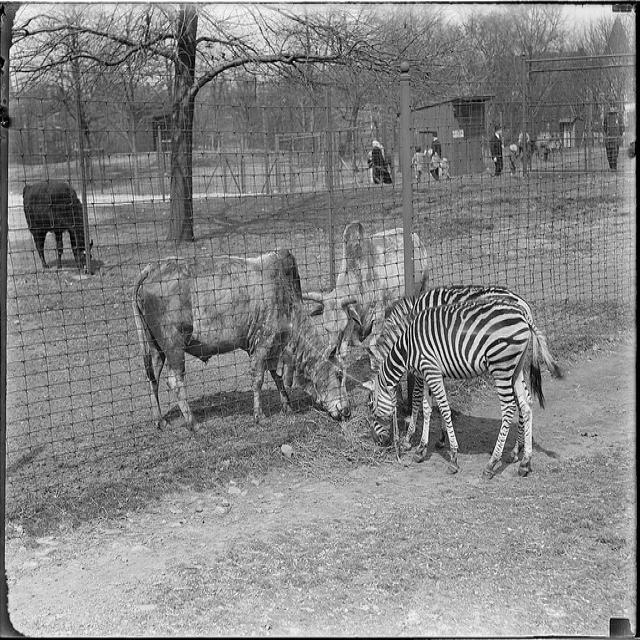cow: (133, 248, 348, 427), (308, 219, 427, 357), (21, 179, 93, 270)
